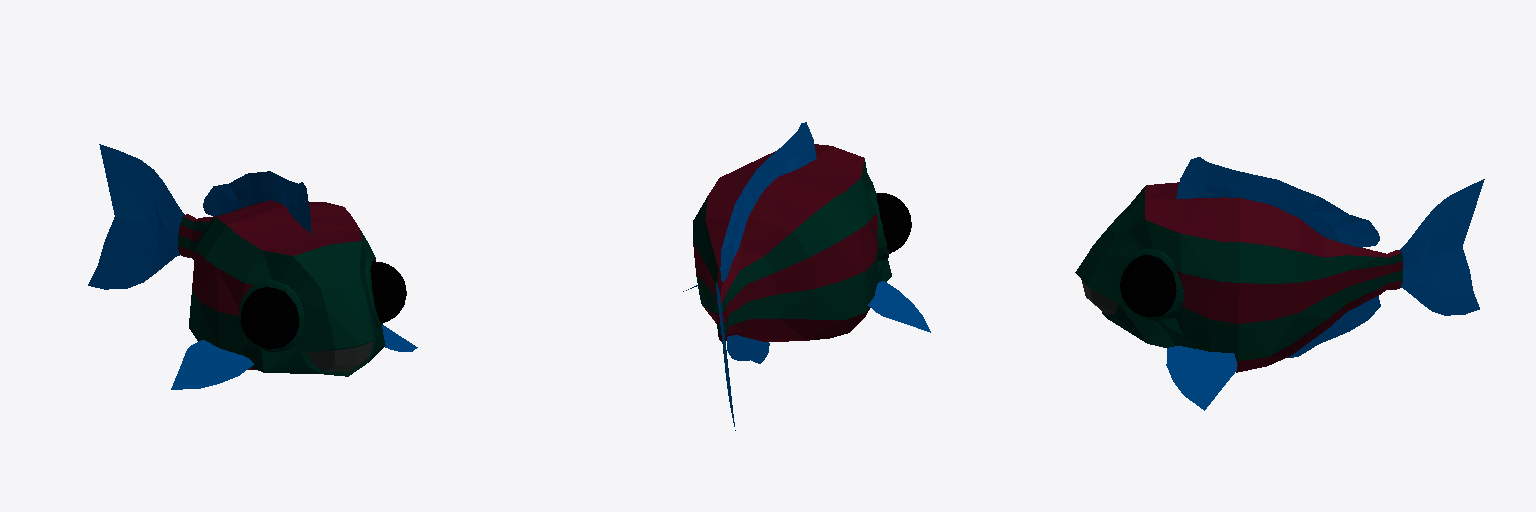
The model's file is ParrotFish.obj.
The picture shows the model from 3 angles: view 1: azimuth 30°, elevation 25°; view 2: azimuth 150°, elevation 25°; view 3: azimuth 270°, elevation 25°; orthographic projection.
Visible parts, largest first — view 1: ParrotFish_Icosphere.029; view 2: ParrotFish_Icosphere.029; view 3: ParrotFish_Icosphere.029.
Part boxes in pixels (x1,y1,x2,y2): ParrotFish_Icosphere.029: (88,144,417,389); ParrotFish_Icosphere.029: (683,122,930,430); ParrotFish_Icosphere.029: (1075,157,1484,410).
Size of the model in its own units: 3.89 by 3.06 by 5.55.